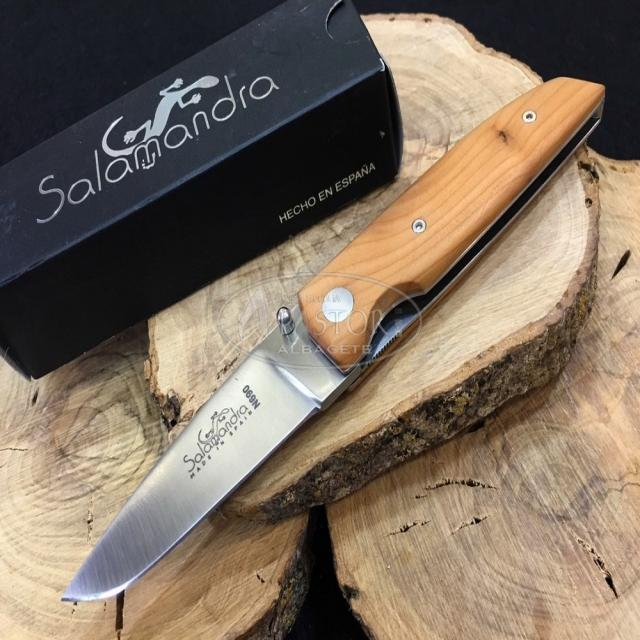knife: (50, 60, 640, 640)
